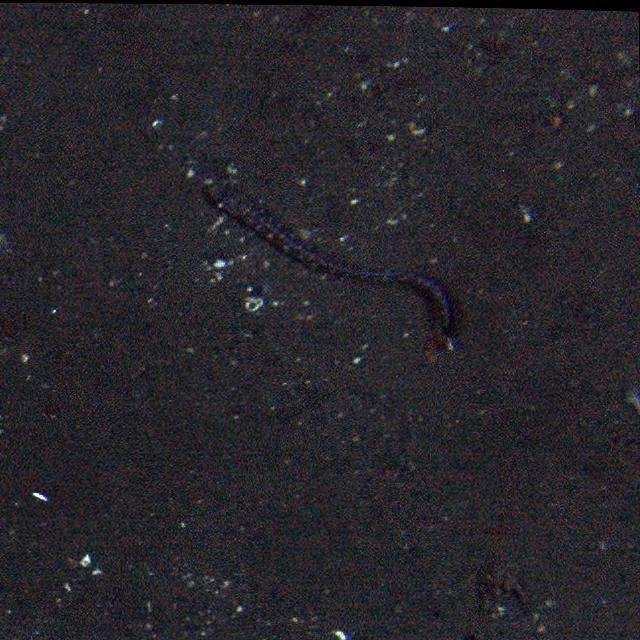roundfish: (201, 175, 457, 347)
